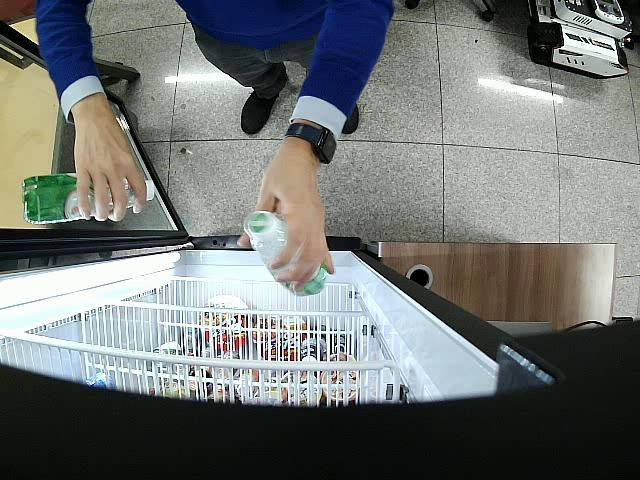00_hand: (236, 163, 335, 293), (73, 113, 147, 222)
18_trevi: (242, 212, 326, 296), (22, 174, 154, 222)
